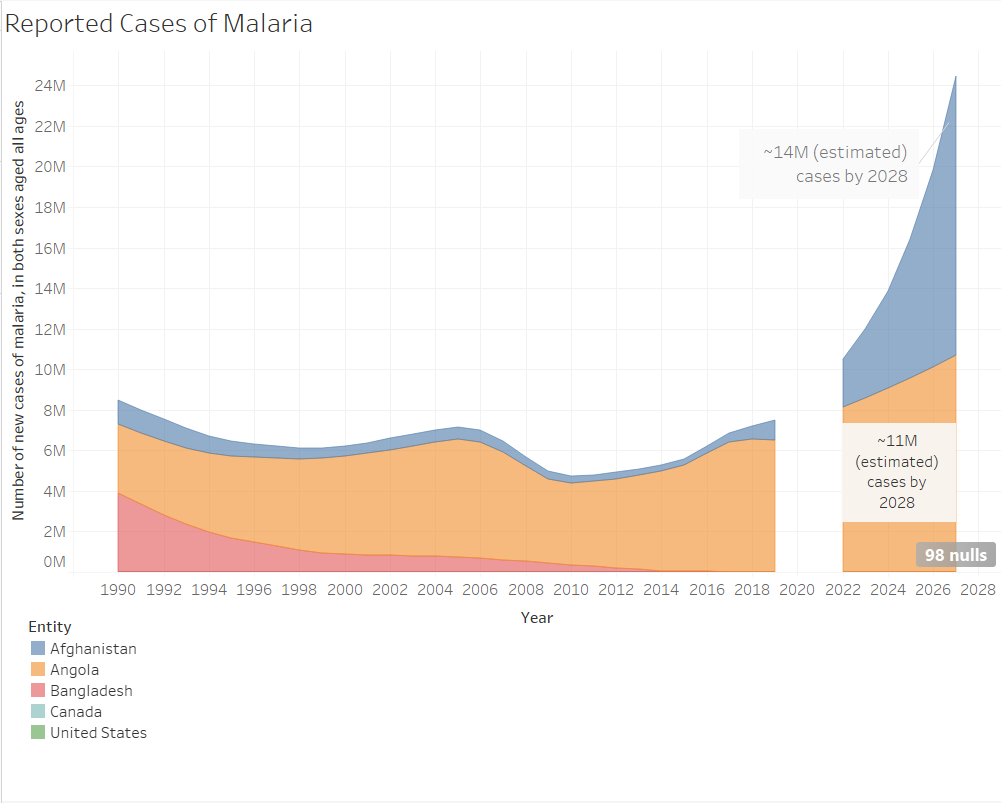

This screenshot's page, from the dashboard's own definition file:
{"tool":"tableau","page":{"name":"Malaria Dashboard","canvas":[1000,800],"ordinal":1},"visuals":[{"type":"legend","title":"Reported Cases of Malaria","param":"[federated.1dfhyej18q10631aj8iw307v0zk8].[none:Entity:nk]","box":[26,615,312,164]}]}

Visuals, with their boxes in screenshot pixels (x1, y1, x2, y2), scaled from the page's 1000x800 canvas onto the 1001x803 screenshot:
"Reported Cases of Malaria" legend: (26, 617, 338, 782)
